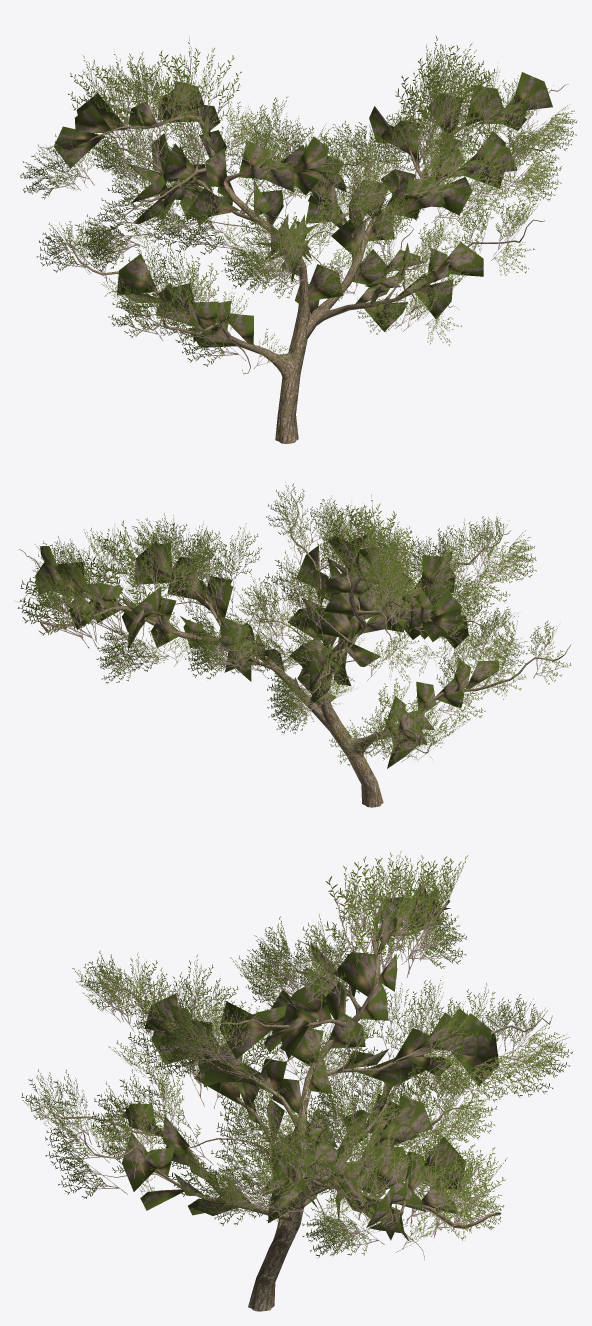
The model's file is acacia.fbx.
The picture shows the model from 3 angles, top to bottom: view 1: azimuth 30°, elevation 25°; view 2: azimuth 150°, elevation 25°; view 3: azimuth 270°, elevation 25°; orthographic projection. The views are drawn at different scales.
Parts seen in each view (by area): view 1: Tree_2; view 2: Tree_2; view 3: Tree_2.
Boxes of the visible parts, <box> form: Tree_2: <box>20,36,577,443</box>; Tree_2: <box>14,482,571,807</box>; Tree_2: <box>21,851,572,1311</box>.
Size of the model in its own units: 857 by 606 by 696.
Materials: 3 (3 with a texture image).
